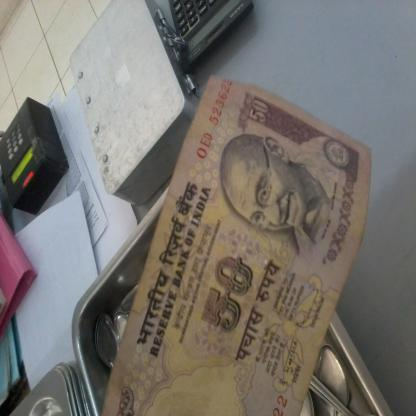Old50Front: (100, 75, 415, 415)
